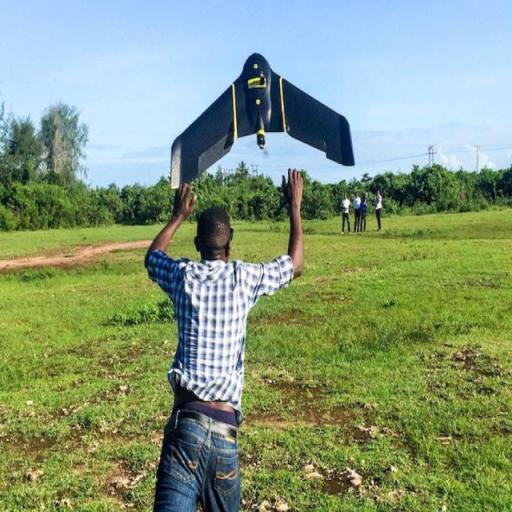uav: (153, 54, 389, 172)
